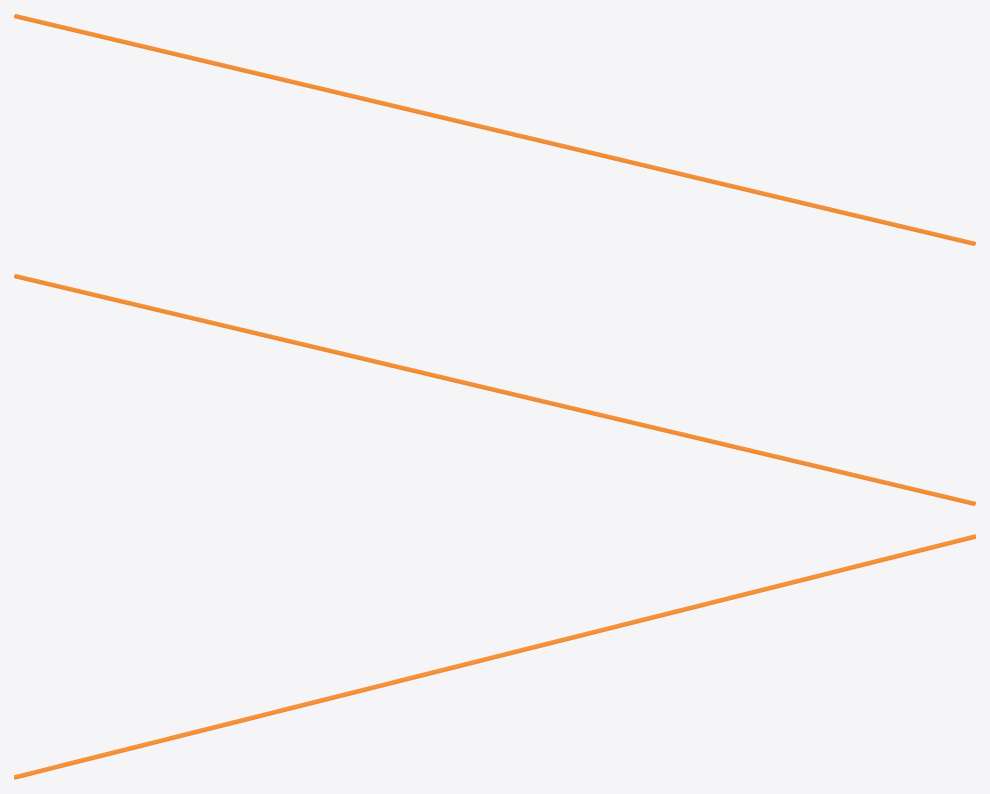
3 views of the same model, one above another, from view 1: azimuth 30°, elevation 25°; view 2: azimuth 210°, elevation 25°; view 3: azimuth 270°, elevation 25° (orthographic).
Parts seen in each view (by area): view 1: BezierCurve.004; view 2: BezierCurve.004; view 3: BezierCurve.004.
Part boxes in pixels (x1,y1,x2,y2): BezierCurve.004: (14,14,975,245); BezierCurve.004: (14,274,975,505); BezierCurve.004: (14,534,975,779).
Size of the model in its own units: 12.02 by 0.1 by 20.12.
